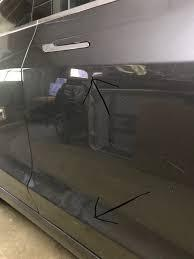doorouter-dent: (27, 23, 192, 247)
